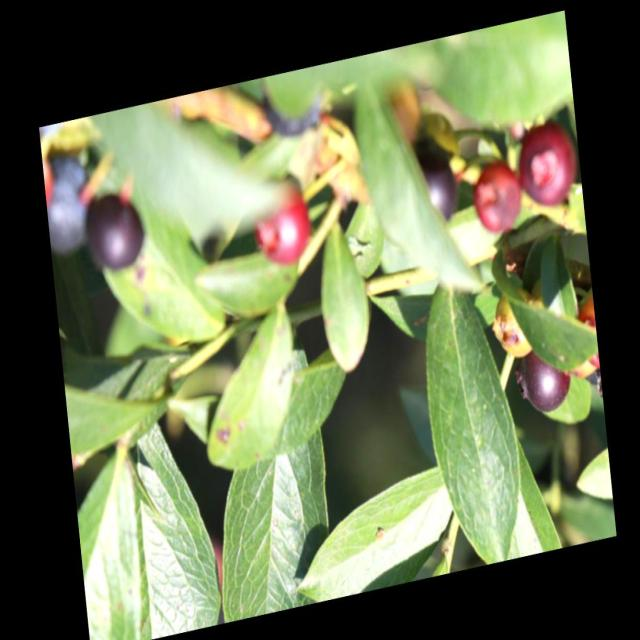blueberry: (84, 184, 149, 276), (510, 337, 571, 420), (412, 137, 457, 228)
blueberry-halfripe: (514, 118, 580, 222), (253, 181, 315, 268), (470, 156, 526, 239)
blueberry-unripe: (487, 284, 540, 369)
